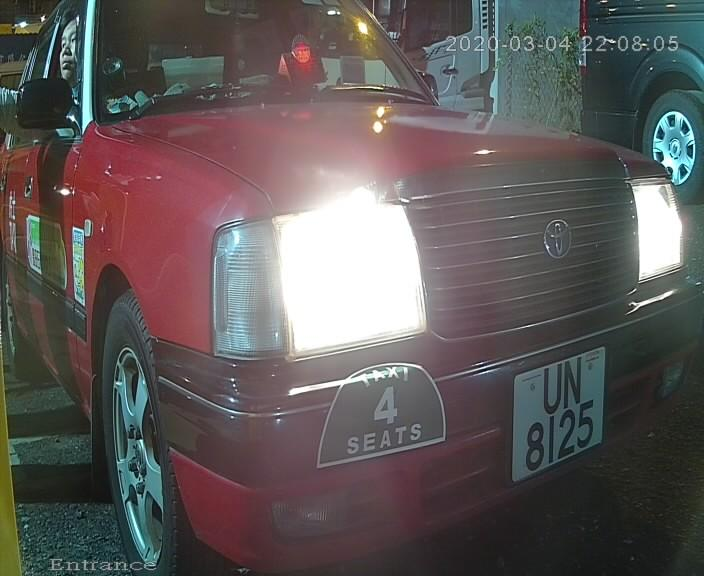Car: (1, 7, 686, 558)
License Plate: (500, 342, 617, 489)
